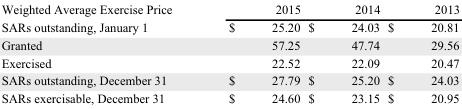table: (0, 0, 459, 105)
table column: (0, 0, 199, 105), (199, 0, 303, 105), (303, 0, 383, 105), (383, 0, 459, 105)
table column header: (0, 0, 459, 17)
table row: (0, 17, 459, 35), (0, 35, 459, 53), (0, 70, 459, 88), (0, 0, 459, 17), (0, 53, 459, 70), (0, 88, 459, 105)
